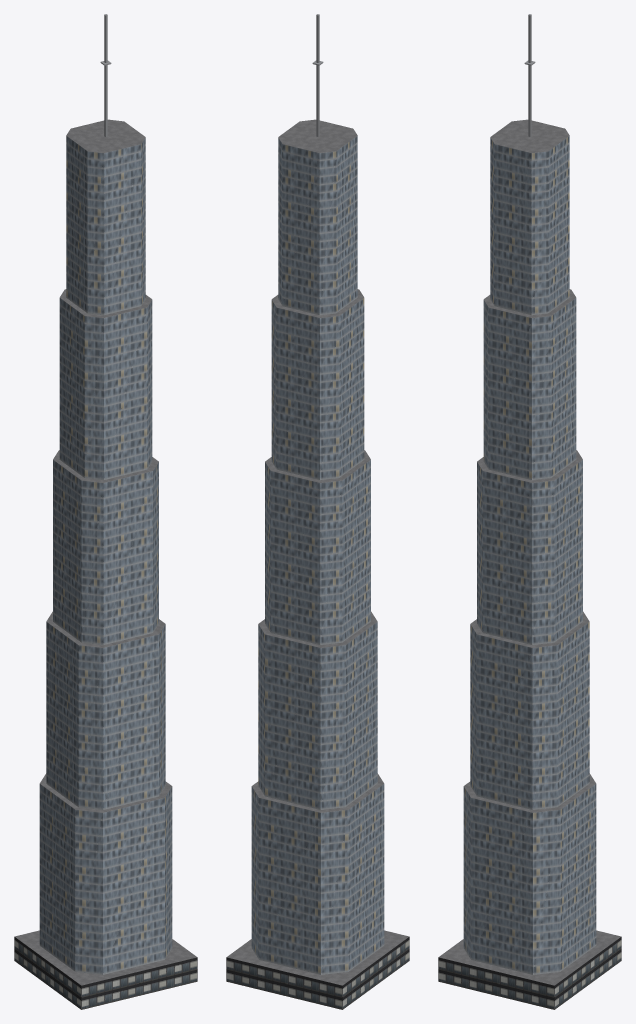
The model's file is 048_supertall_tapered.glb.
3 renders of one model, left to right at view 1: azimuth 30°, elevation 25°; view 2: azimuth 150°, elevation 25°; view 3: azimuth 330°, elevation 25°, orthographic.
Parts seen in each view (by area): view 1: 048_supertall_tapered; view 2: 048_supertall_tapered; view 3: 048_supertall_tapered.
Part boxes in pixels (x1=…): 048_supertall_tapered: x1=14, y1=14, x2=197, y2=1009; 048_supertall_tapered: x1=226, y1=14, x2=409, y2=1009; 048_supertall_tapered: x1=438, y1=14, x2=621, y2=1009.
Size of the model in its own units: 60 by 472 by 60.
4 materials, 3 textured.
